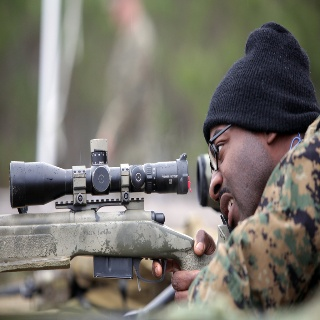rifle: (1, 137, 227, 286)
